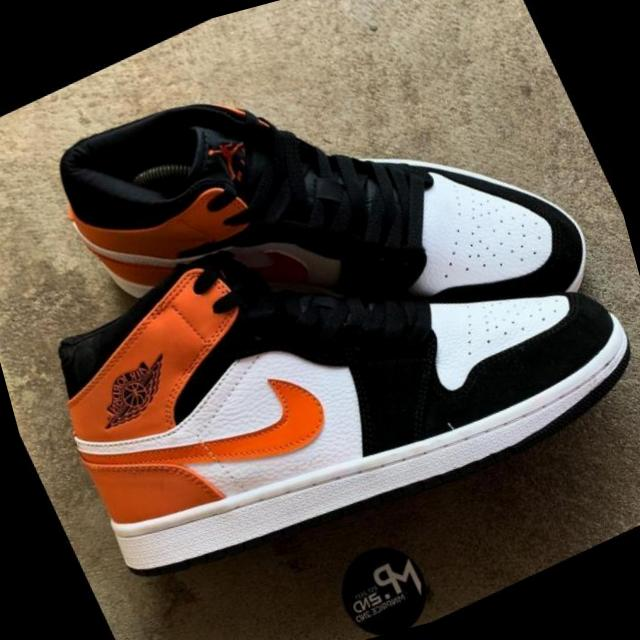nike_fake_jordan: (0, 90, 640, 640), (10, 0, 640, 495)
